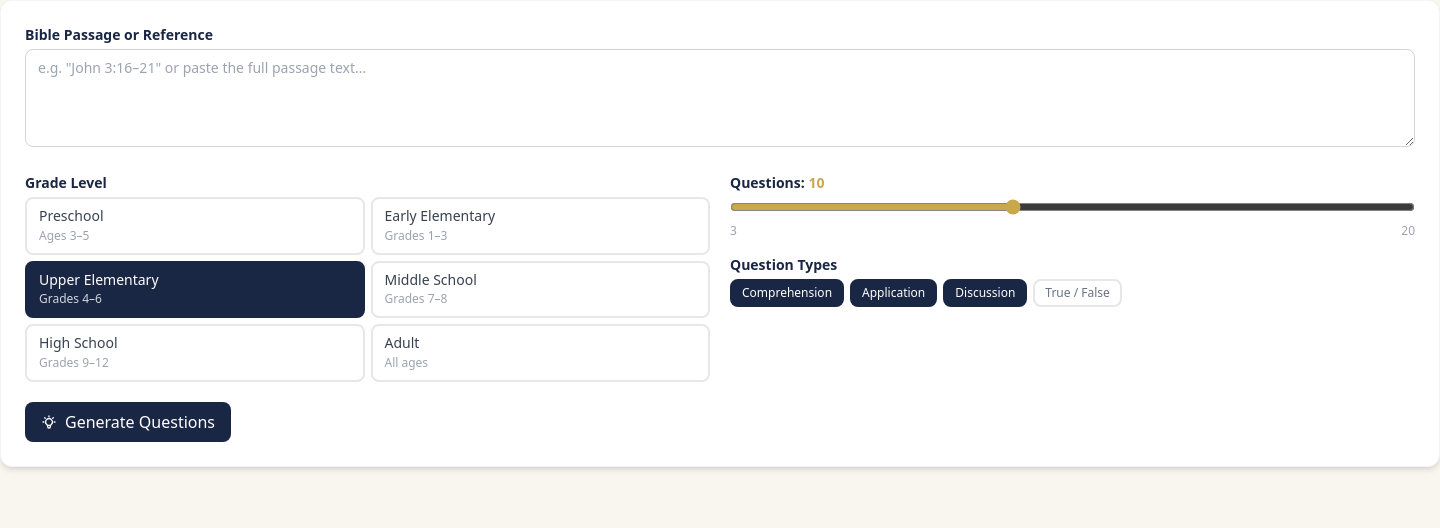
it: QuestionGenerator › every question type can be turned off, and generating then refuses
Type "John 3:16" into the text box with placeholder "e.g. \"John 3:16–21\" or paste the full passage text…". click: (720,98)
box: [25,49,1415,147]
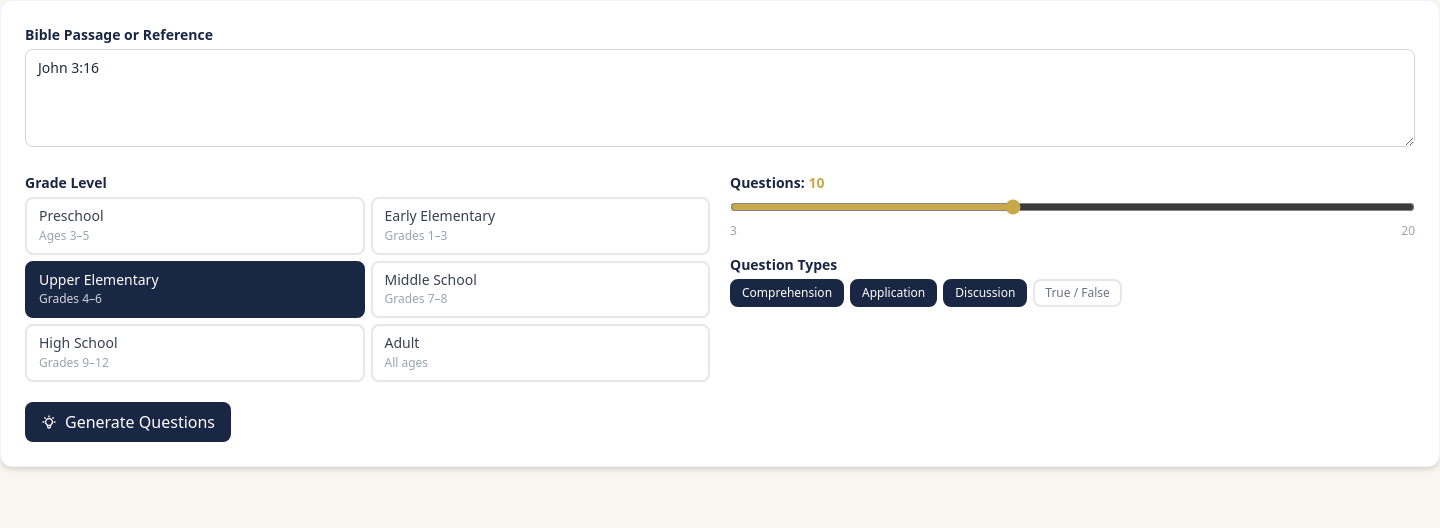
Click the button "Comprehension". click: (787,293)
box: [730,279,844,307]
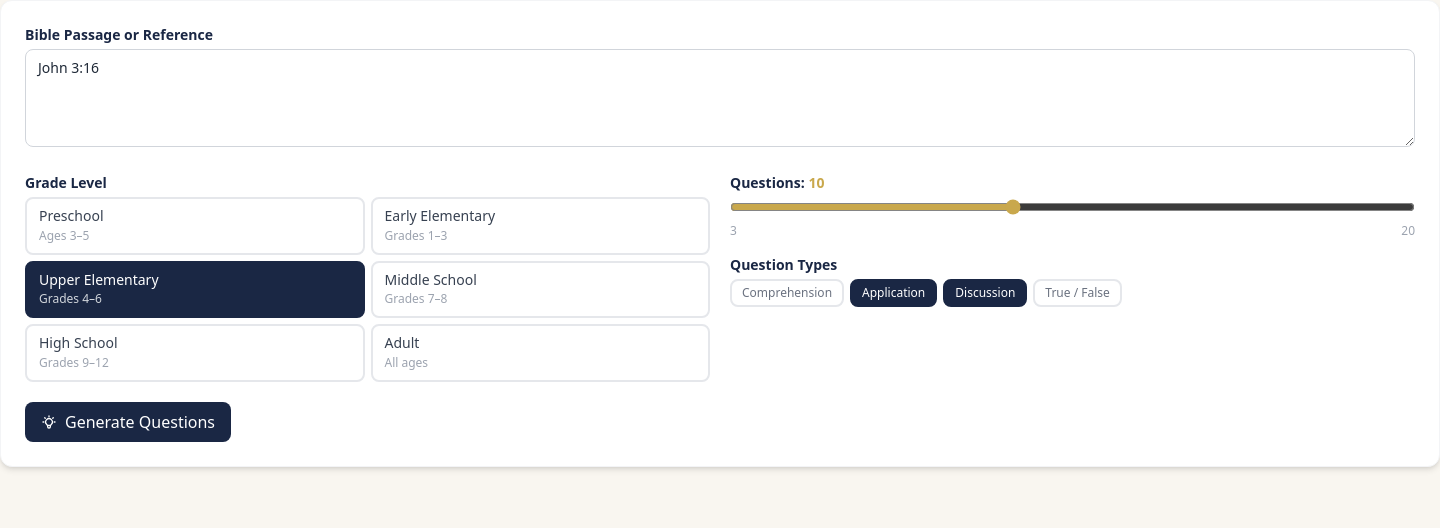
Click the button "Application". click: (894,293)
box: [850,279,937,307]
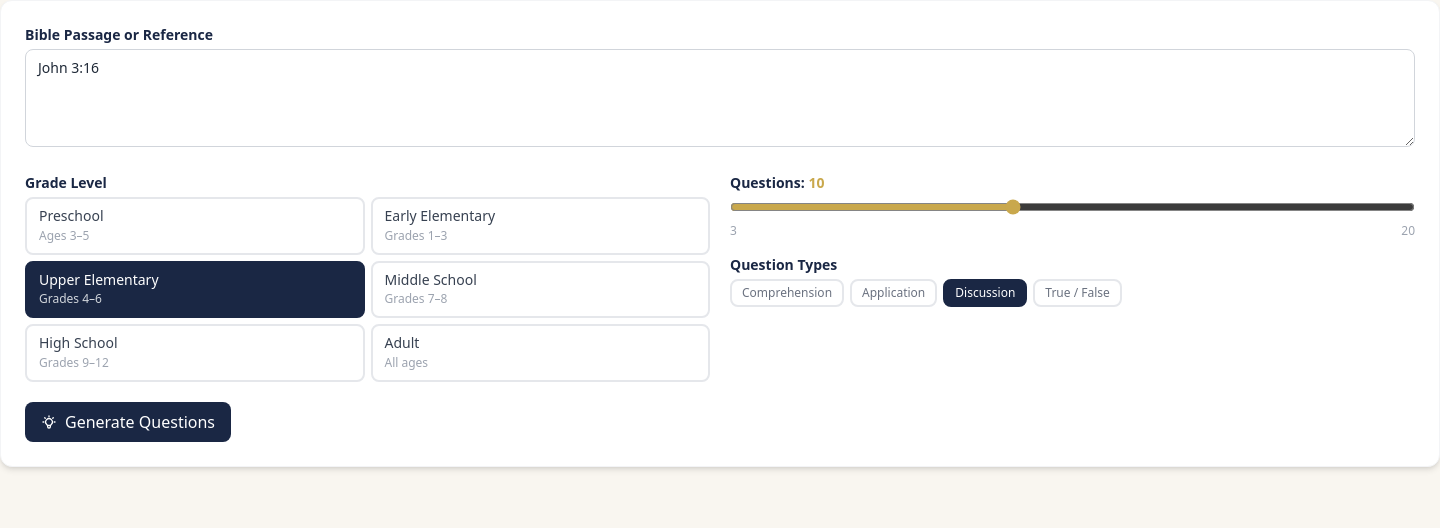
Click the button "Discussion". click: (985,293)
box: [943,279,1027,307]
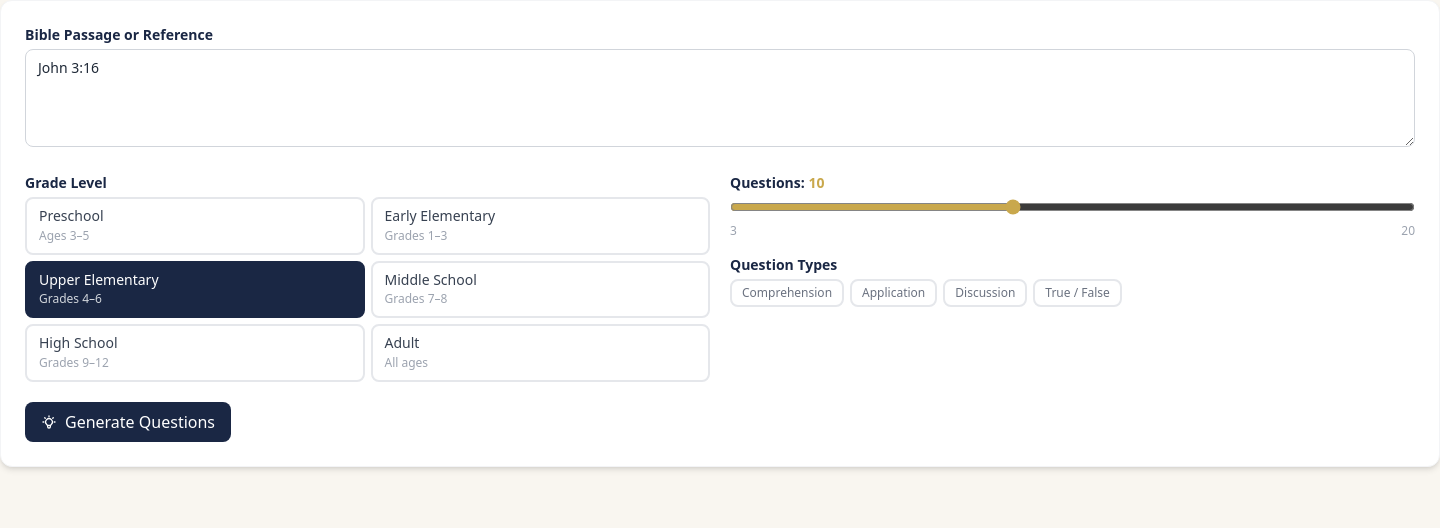
Click the button "Generate Questions". click: (128,422)
box: [25,402,231,442]
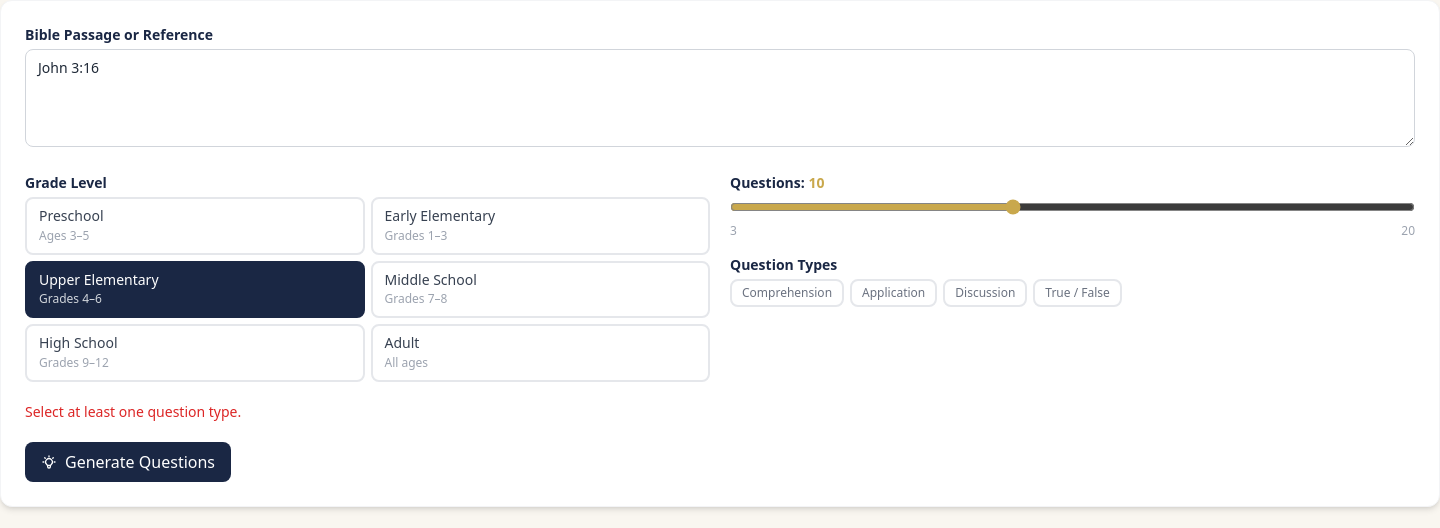
Expected: the text "Select at least one question type." is shown, [25,402,241,420]
